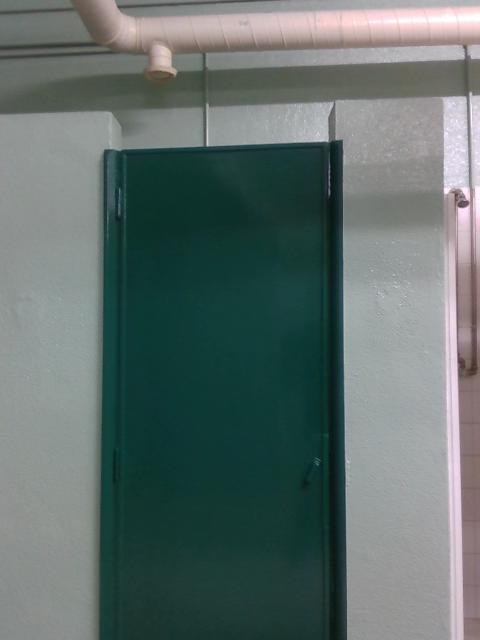door: (119, 149, 331, 640)
